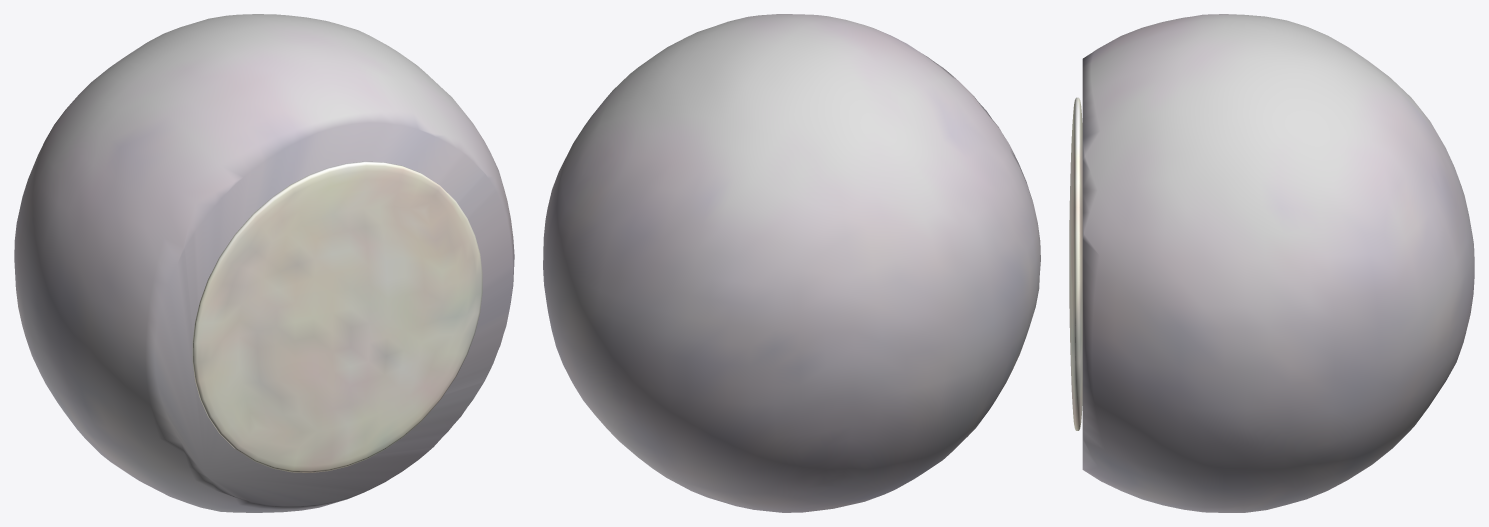
The model's file is allele-token.glb.
3 renders of one model, left to right at view 1: azimuth 30°, elevation 25°; view 2: azimuth 150°, elevation 25°; view 3: azimuth 270°, elevation 25°, orthographic.
Parts seen in each view (by area): view 1: allele-token-body, allele-token-face; view 2: allele-token-body; view 3: allele-token-body, allele-token-face.
Boxes of the visible parts, x1,y1,x2,y2 form: allele-token-body: (14,14,514,512); allele-token-face: (192,161,482,472); allele-token-body: (543,14,1040,512); allele-token-body: (1082,14,1474,512); allele-token-face: (1069,97,1082,430).
Size of what is drawn, in the model's own units: 0.6001 by 0.6011 by 0.4858.
